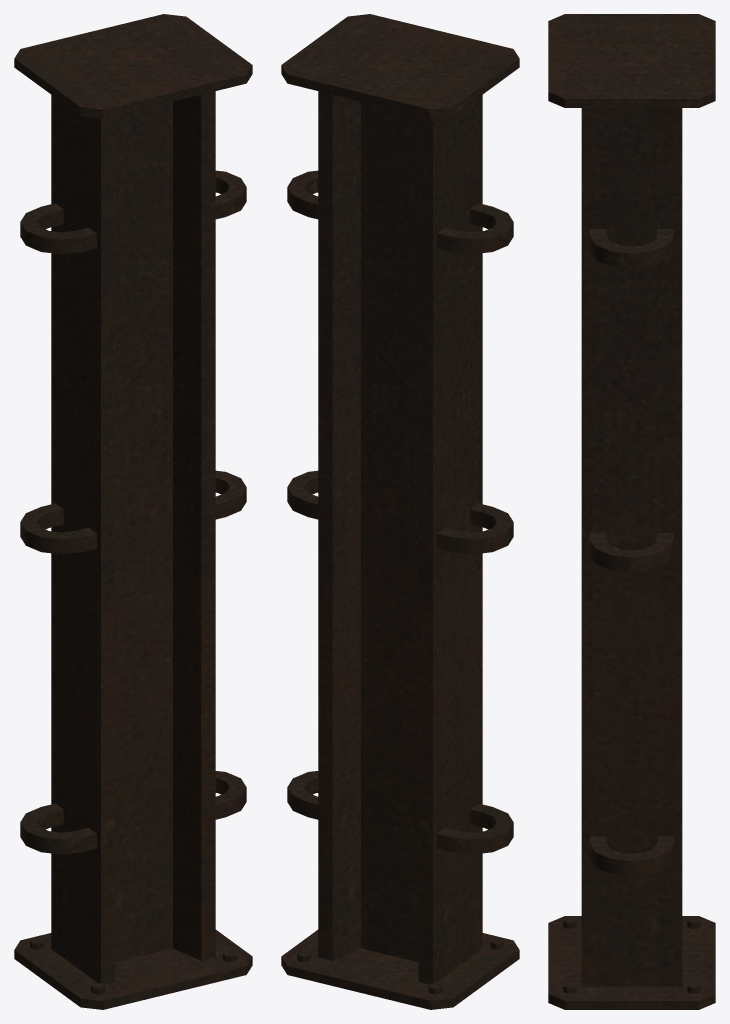
File: beam_hc_vertical_2.fbx
3 views of the same model, side by side, from view 1: azimuth 30°, elevation 25°; view 2: azimuth 150°, elevation 25°; view 3: azimuth 270°, elevation 25° (orthographic).
Parts seen in each view (by area): view 1: beam_hc_vertical_2; view 2: beam_hc_vertical_2; view 3: beam_hc_vertical_2.
Boxes of the visible parts, x1,y1,x2,y2 form: beam_hc_vertical_2: (14, 14, 252, 1009); beam_hc_vertical_2: (281, 14, 519, 1009); beam_hc_vertical_2: (548, 14, 715, 1009).
Size of the model in its own units: 0.75 by 0.5 by 3.
